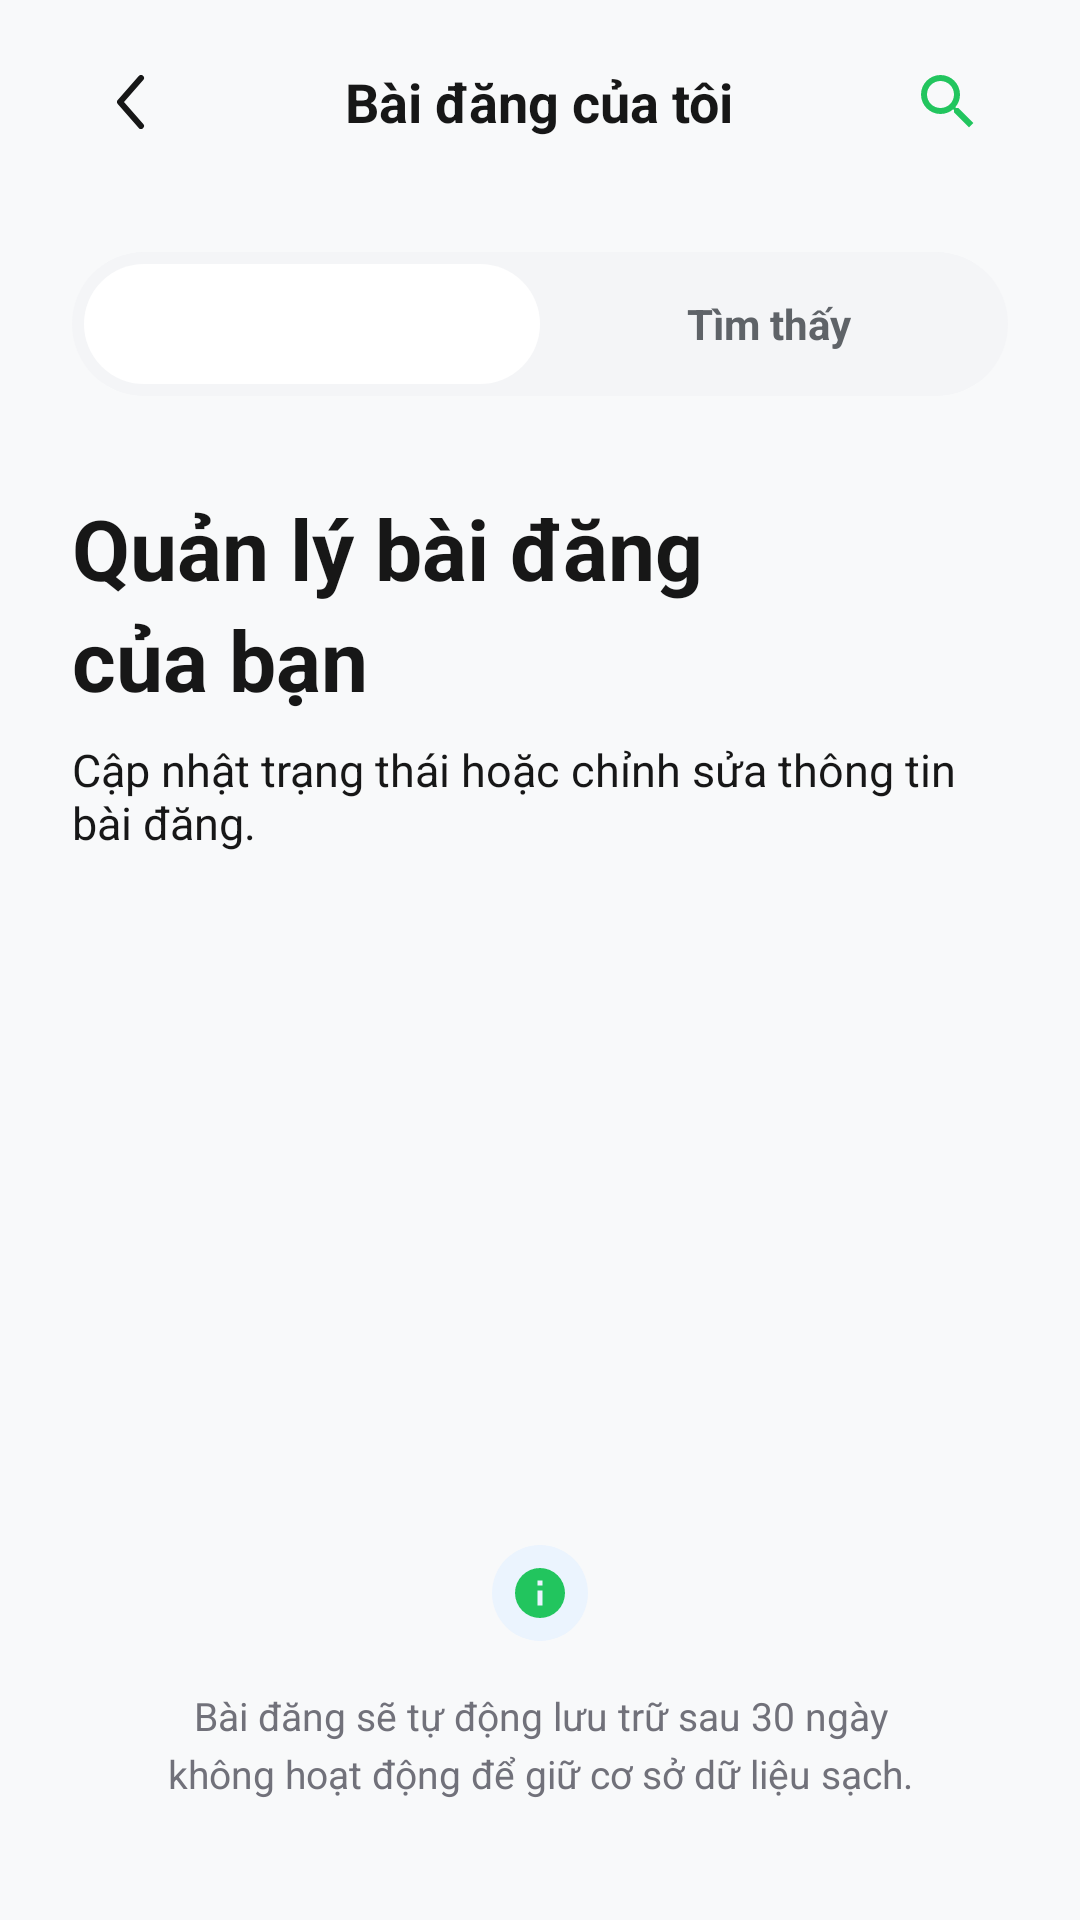

Icons on this 1080 x 1920 Android screen, each with its box as detection(x1, y1, x2, y2):
chevron left: detection(117, 75, 144, 129)
info: detection(515, 1568, 565, 1618)
search: detection(921, 75, 973, 127)
